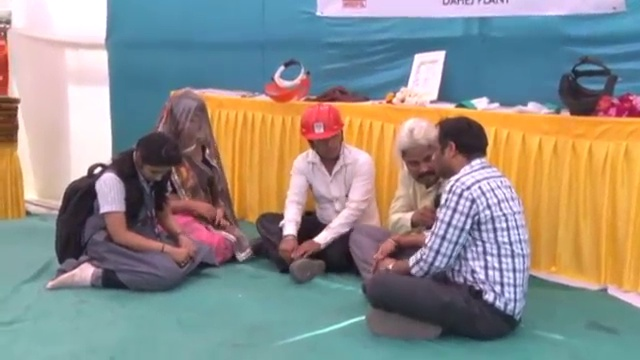helmet: (297, 109, 347, 142)
helmet_off: (429, 114, 490, 186), (392, 117, 446, 188), (159, 94, 213, 159), (122, 131, 185, 186)
helmet_on: (297, 113, 353, 174)
person: (361, 114, 531, 337), (47, 130, 207, 295), (256, 105, 385, 280), (148, 86, 252, 267), (349, 114, 447, 281)
